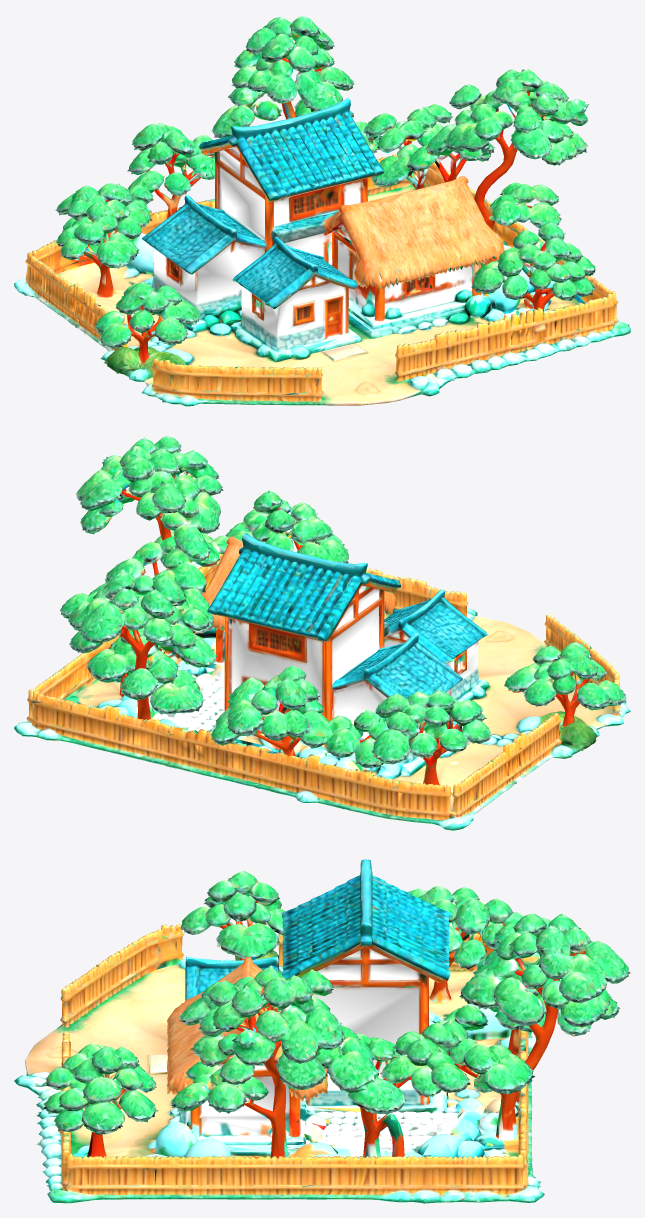
The model's file is ql_cottage.glb.
3 views of the same model, one above another, from view 1: azimuth 30°, elevation 25°; view 2: azimuth 150°, elevation 25°; view 3: azimuth 270°, elevation 25° (orthographic). The views are drawn at different scales.
Parts seen in each view (by area): view 1: ql_cottage; view 2: ql_cottage; view 3: ql_cottage.
Part boxes in pixels (x1,y1,x2,y2): ql_cottage: (14,14,630,406); ql_cottage: (14,435,630,830); ql_cottage: (14,859,630,1203).
Size of the model in its own units: 16.08 by 6 by 15.06.
1 material, 1 textured.
